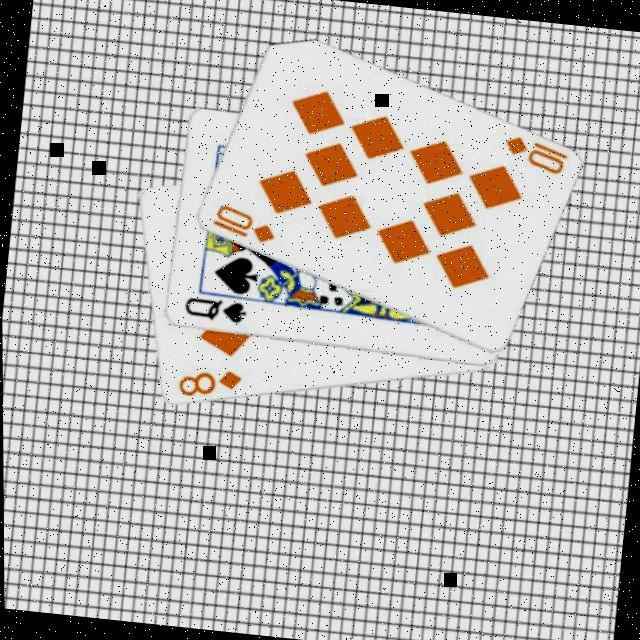10D: (498, 131, 572, 178), (208, 199, 280, 246)
8D: (174, 361, 245, 404)
QS: (179, 292, 250, 327)
